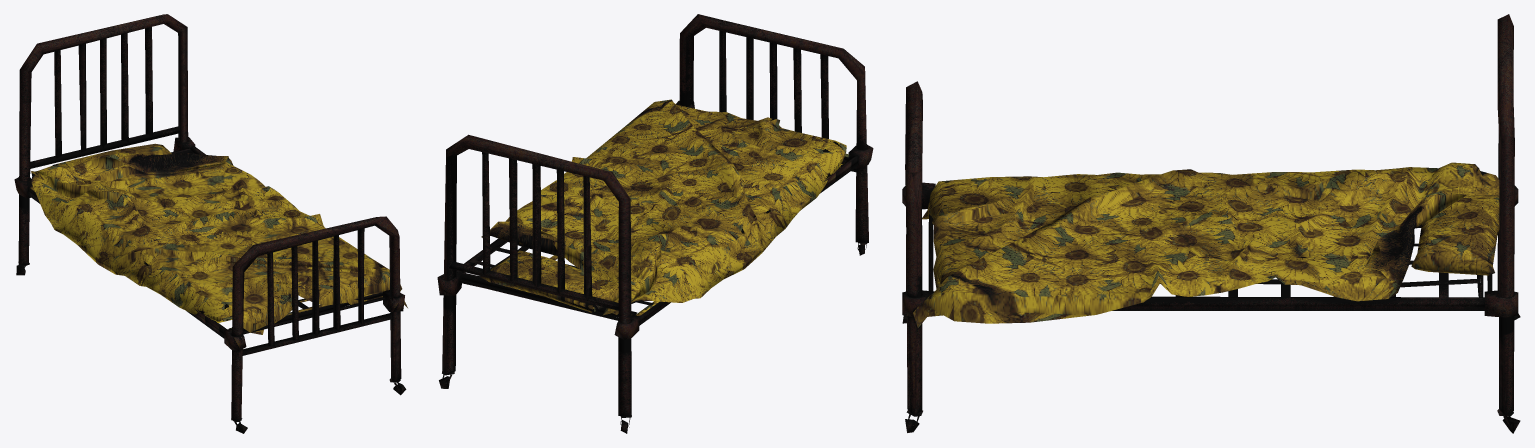
The model's file is Bed.fbx.
3 renders of one model, left to right at view 1: azimuth 30°, elevation 25°; view 2: azimuth 150°, elevation 25°; view 3: azimuth 270°, elevation 25°, orthographic. The views are drawn at different scales.
Parts seen in each view (by area): view 1: Bed; view 2: Bed; view 3: Bed.
Part boxes in pixels (left/top/right/bottom): Bed: left=14, top=14, right=407, bottom=433; Bed: left=437, top=14, right=873, bottom=433; Bed: left=902, top=14, right=1520, bottom=433.
Size of the model in its own units: 101 by 109 by 192.
1 material, 1 textured.
